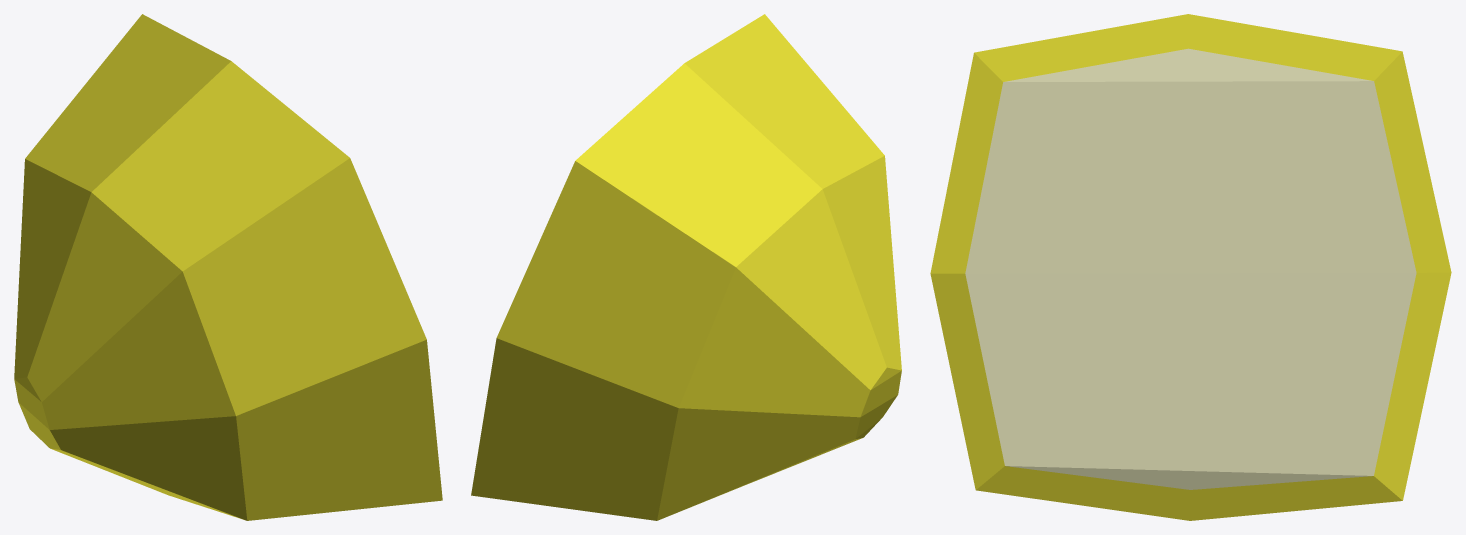
The model's file is lemonHalf.fbx.
3 views of the same model, side by side, from view 1: azimuth 30°, elevation 25°; view 2: azimuth 150°, elevation 25°; view 3: azimuth 270°, elevation 25° (orthographic). The views are drawn at different scales.
Visible parts, largest first — view 1: lemonHalf; view 2: lemonHalf; view 3: lemonHalf.
Boxes of the visible parts, x1,y1,x2,y2 form: lemonHalf: (14, 14, 442, 520); lemonHalf: (471, 14, 901, 520); lemonHalf: (930, 14, 1451, 520).
Size of the model in its own units: 4.6 by 5.56 by 5.9.
Materials: 1 (1 with a texture image).
